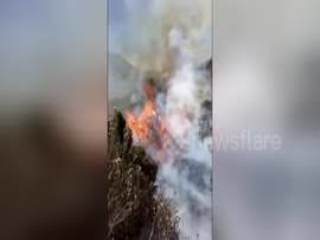fire: (127, 95, 161, 145)
smoke: (151, 25, 213, 208)
